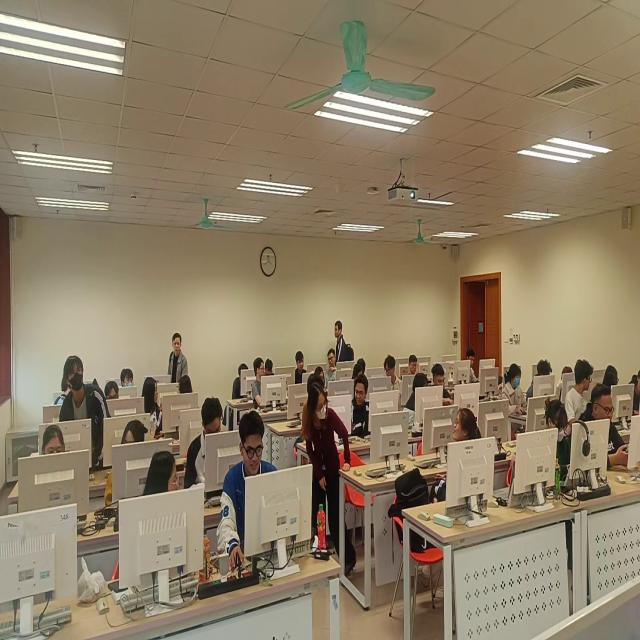raise_head: (322, 347, 345, 388), (292, 352, 311, 391), (104, 378, 124, 414), (121, 367, 138, 396)
stand: (302, 381, 355, 577), (61, 354, 109, 473), (166, 333, 190, 401), (335, 322, 353, 386)
using_computer: (218, 410, 289, 571), (577, 383, 640, 488), (28, 423, 84, 515), (530, 394, 580, 493), (186, 399, 229, 505), (601, 365, 640, 425), (432, 365, 470, 425), (500, 362, 534, 425), (408, 372, 440, 424), (529, 358, 557, 410), (463, 347, 492, 391), (231, 363, 254, 408), (409, 353, 423, 387)
